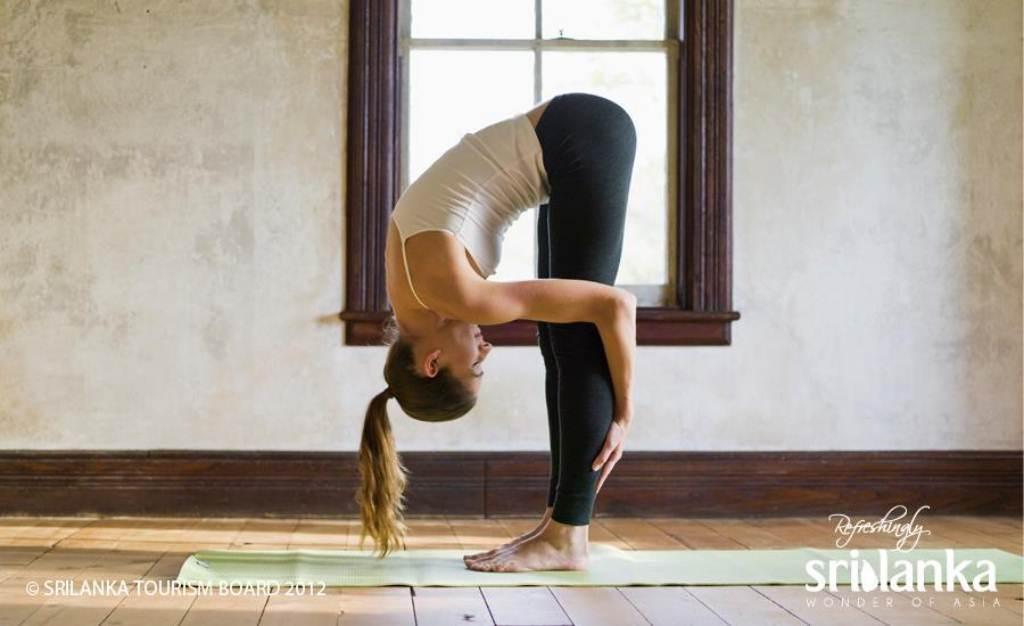Person: (351, 92, 638, 573)
